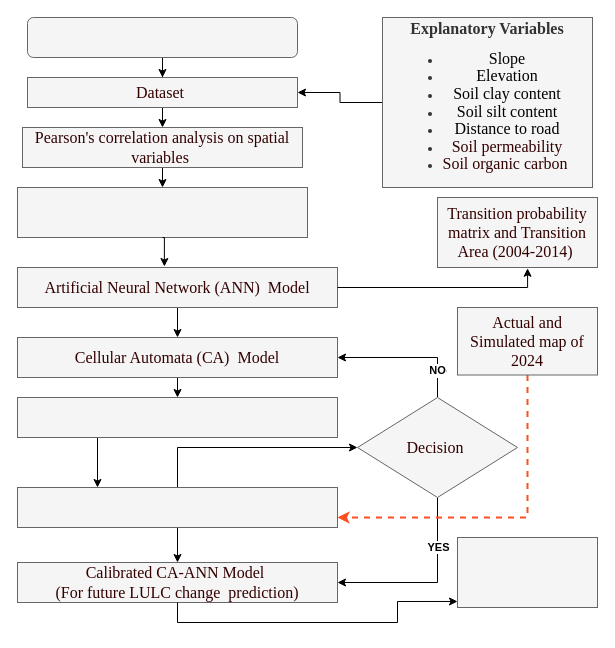
The diagram is 615 pixels wide and 648 high, and some of its shapes have lost their labels. Here are the shapes that lost their labels. From the top down, the centre of each, then its label:
At [162,37]: "LULC Maps (2004, 2014, 2024)".
At [162,212]: "LULC Change detection (2004-2014, 2014-2024, 2004- 2024)".
At [177,417]: "Simulated LULC Map (2024)".
At [177,507]: "Model Validation".
At [527,572]: "Predicted LULC maps of 2034, 2044 and 2054".
